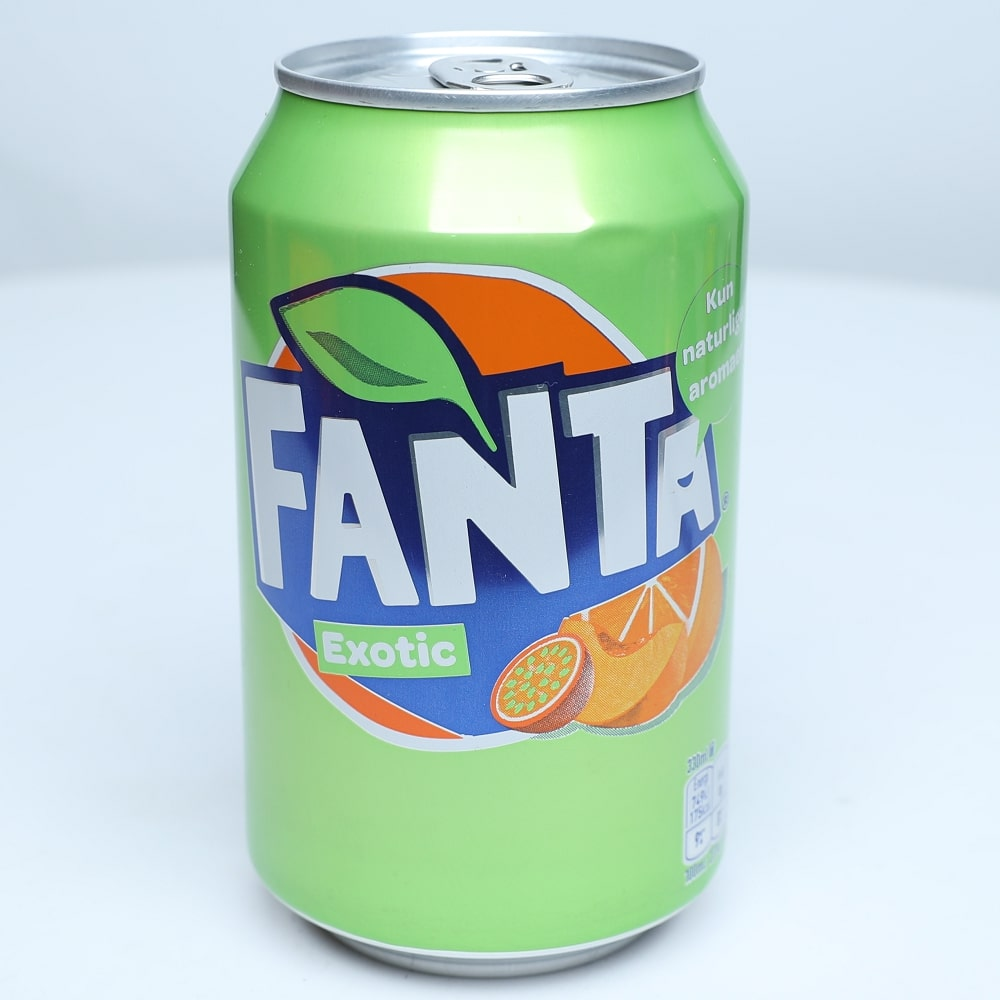metal: (225, 28, 746, 981)
